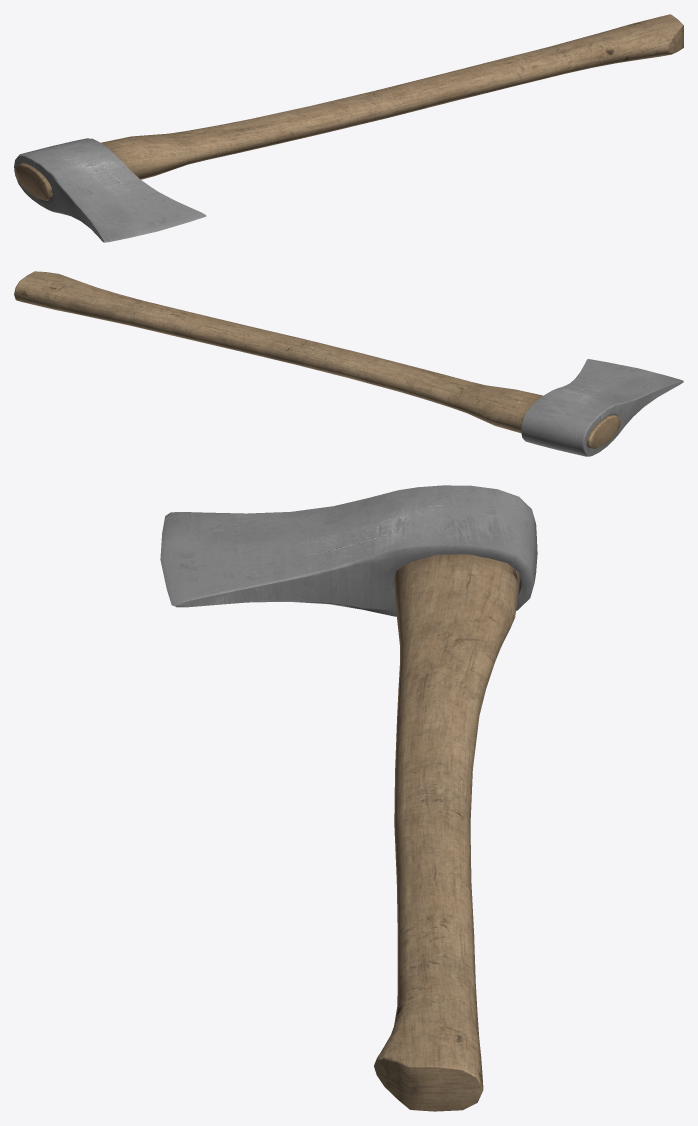
The model's file is lumberjack_axe_low-poly.glb.
3 renders of one model, top to bottom at view 1: azimuth 30°, elevation 25°; view 2: azimuth 150°, elevation 25°; view 3: azimuth 270°, elevation 25°, orthographic. The views are drawn at different scales.
Parts seen in each view (by area): view 1: axe; view 2: axe; view 3: axe.
Part boxes in pixels (bbox=[...]): axe: bbox=[14, 14, 683, 242]; axe: bbox=[14, 271, 683, 456]; axe: bbox=[160, 485, 537, 1111].
Size of the model in its own units: 0.5805 by 0.0364 by 0.1602.
1 material, 1 textured.
